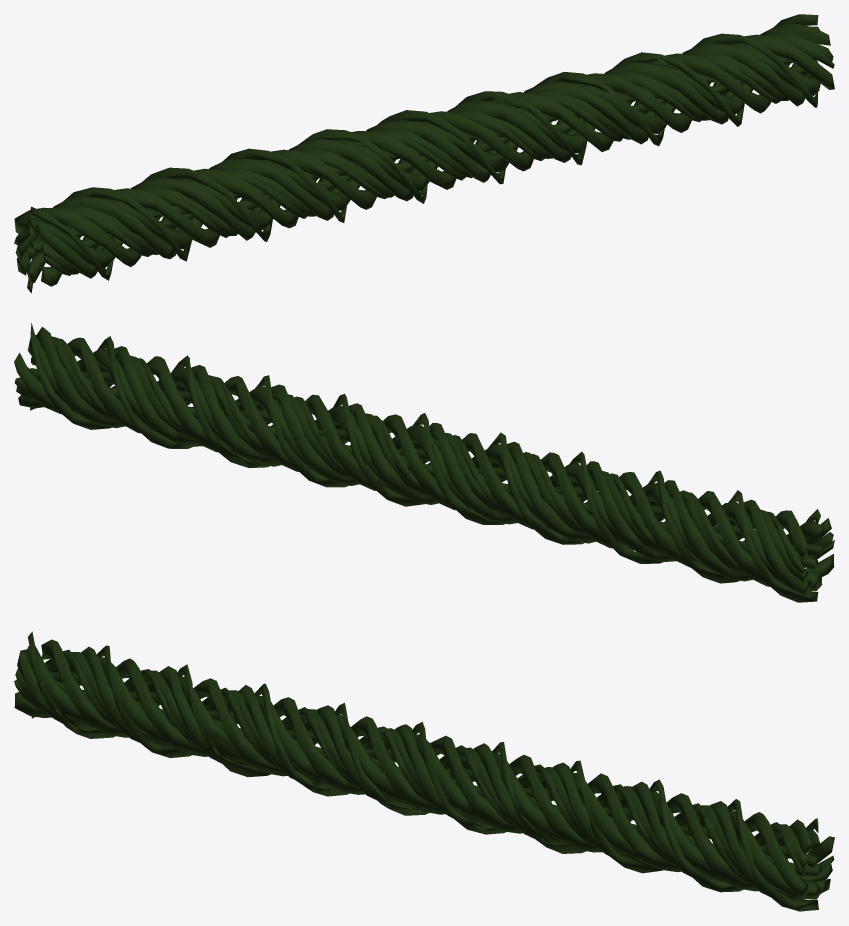
File: ENV_Vine-floor.fbx
3 renders of one model, top to bottom at view 1: azimuth 30°, elevation 25°; view 2: azimuth 150°, elevation 25°; view 3: azimuth 330°, elevation 25°, orthographic.
Visible parts, largest first — view 1: Cylinder.032; view 2: Cylinder.032; view 3: Cylinder.032.
Boxes of the visible parts, left/top/right/bottom form: Cylinder.032: left=14, top=14, right=834, bottom=293; Cylinder.032: left=14, top=323, right=834, bottom=602; Cylinder.032: left=14, top=631, right=834, bottom=911.
Bounding box in the file's own units: 955 × 101 × 101.
